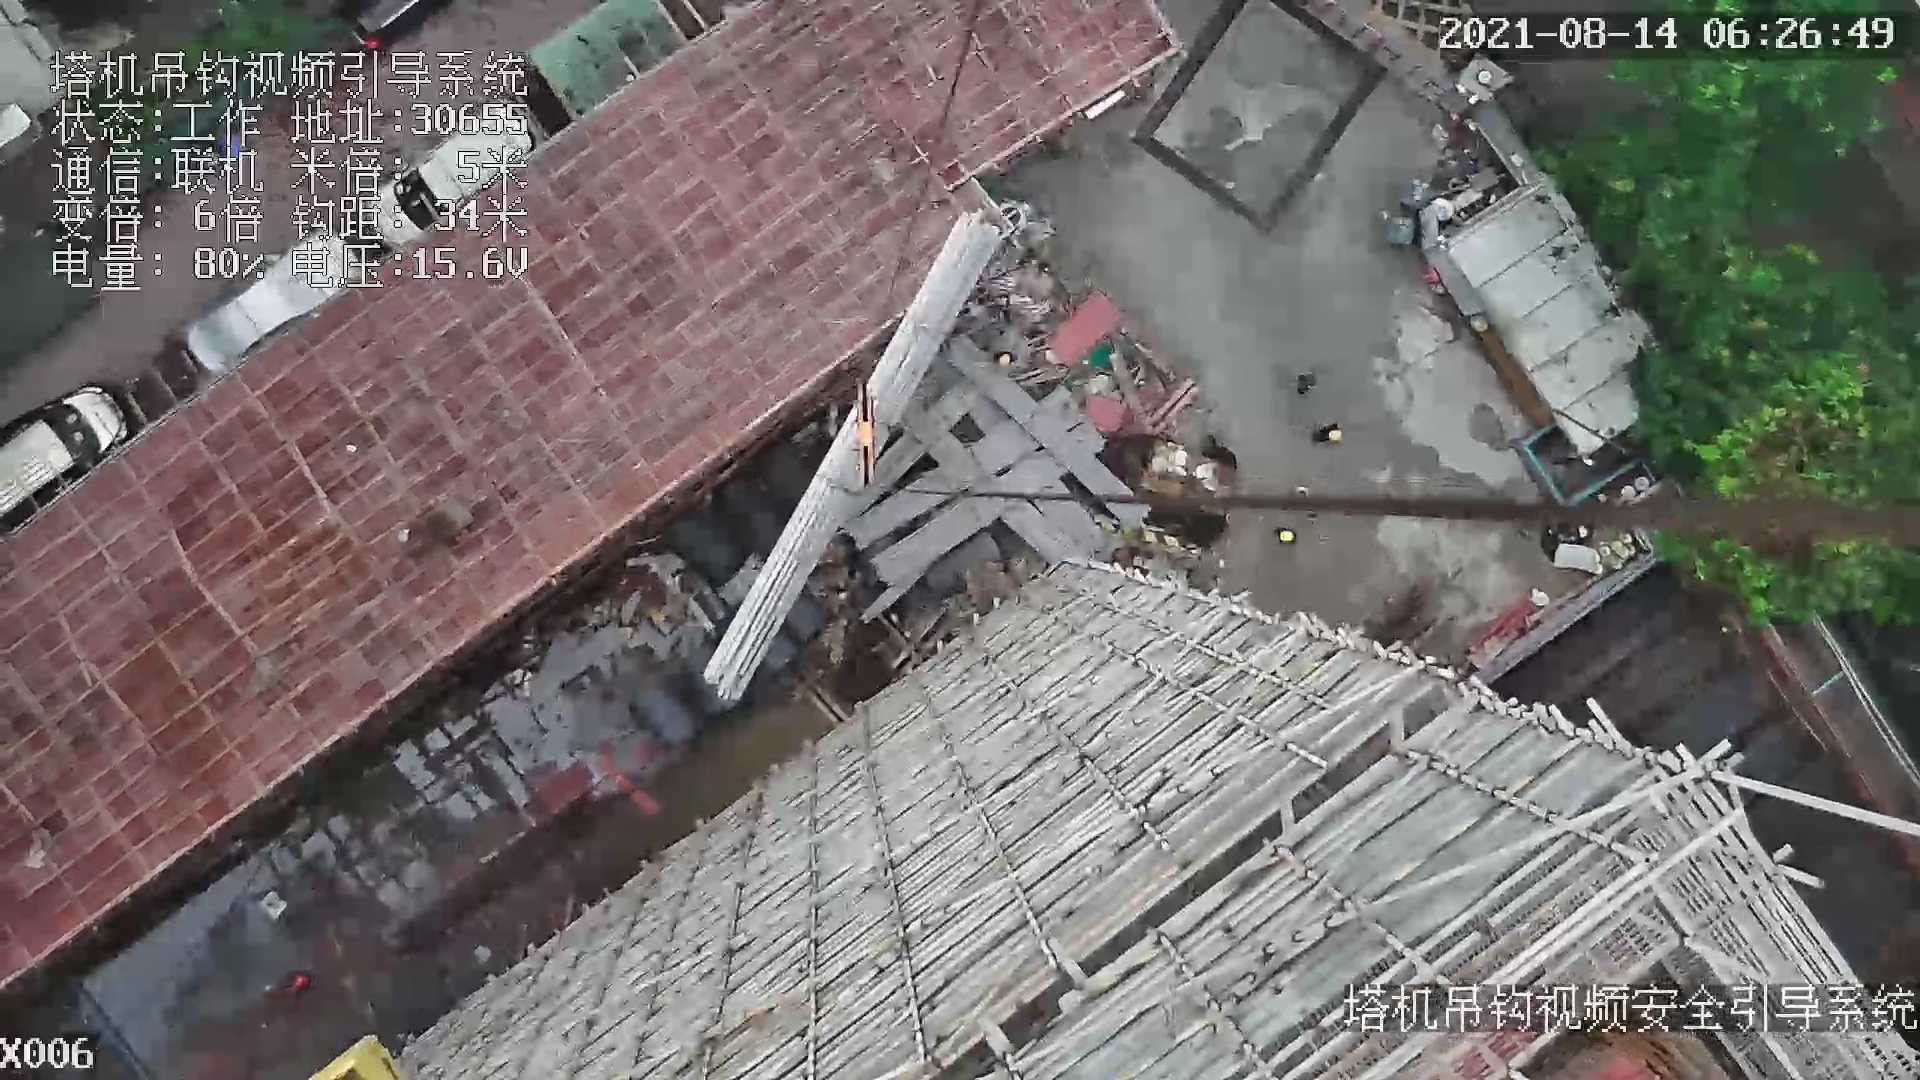helmet: (1277, 530, 1294, 542), (1327, 428, 1343, 441)
hook: (845, 367, 878, 491)
person: (1315, 418, 1344, 446), (1270, 518, 1296, 544)
